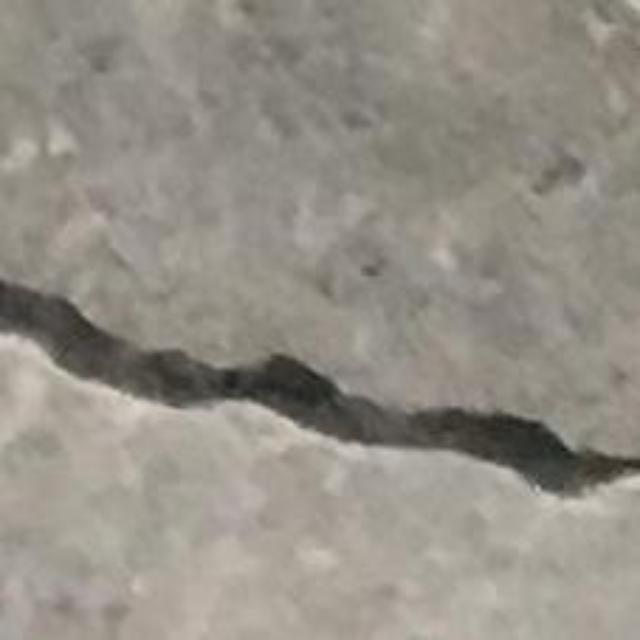crack: (0, 280, 639, 496)
